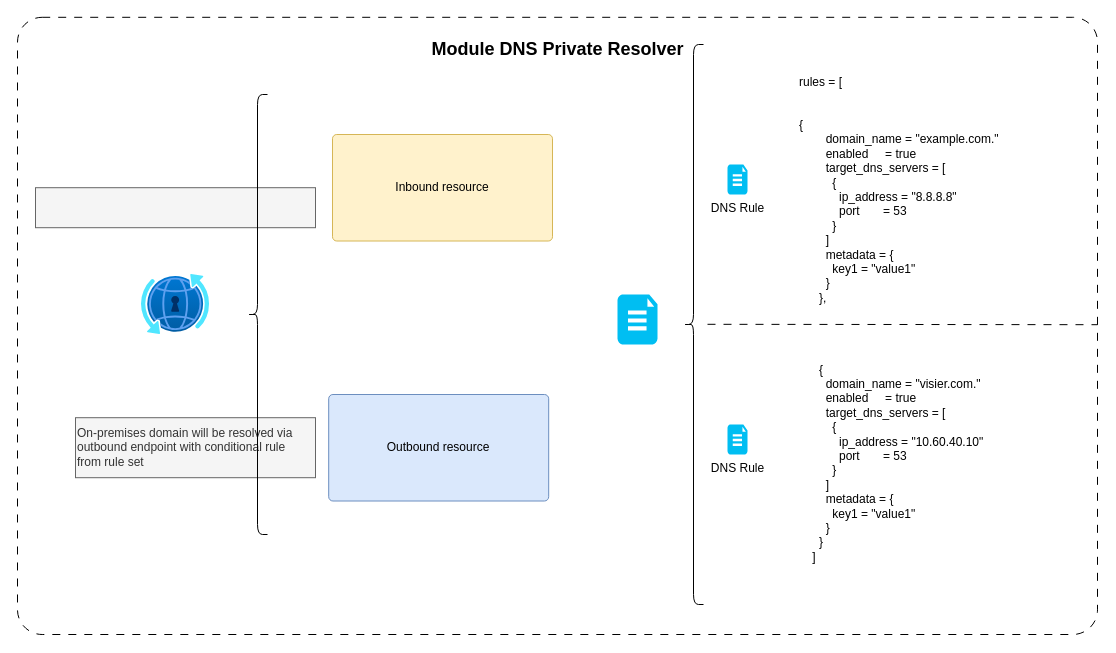
Image size: 1116x653. Some labels were removed from this diagram. Here are the shapes that lost their labels. From the top down, the box of each, then its label:
(34, 187, 316, 228): Private DNS zone records will be resolved from on-premises via inbound endpoint
(141, 274, 209, 334): Private DNS Resolver
(617, 294, 657, 344): DNS Forwarding Rule Set
